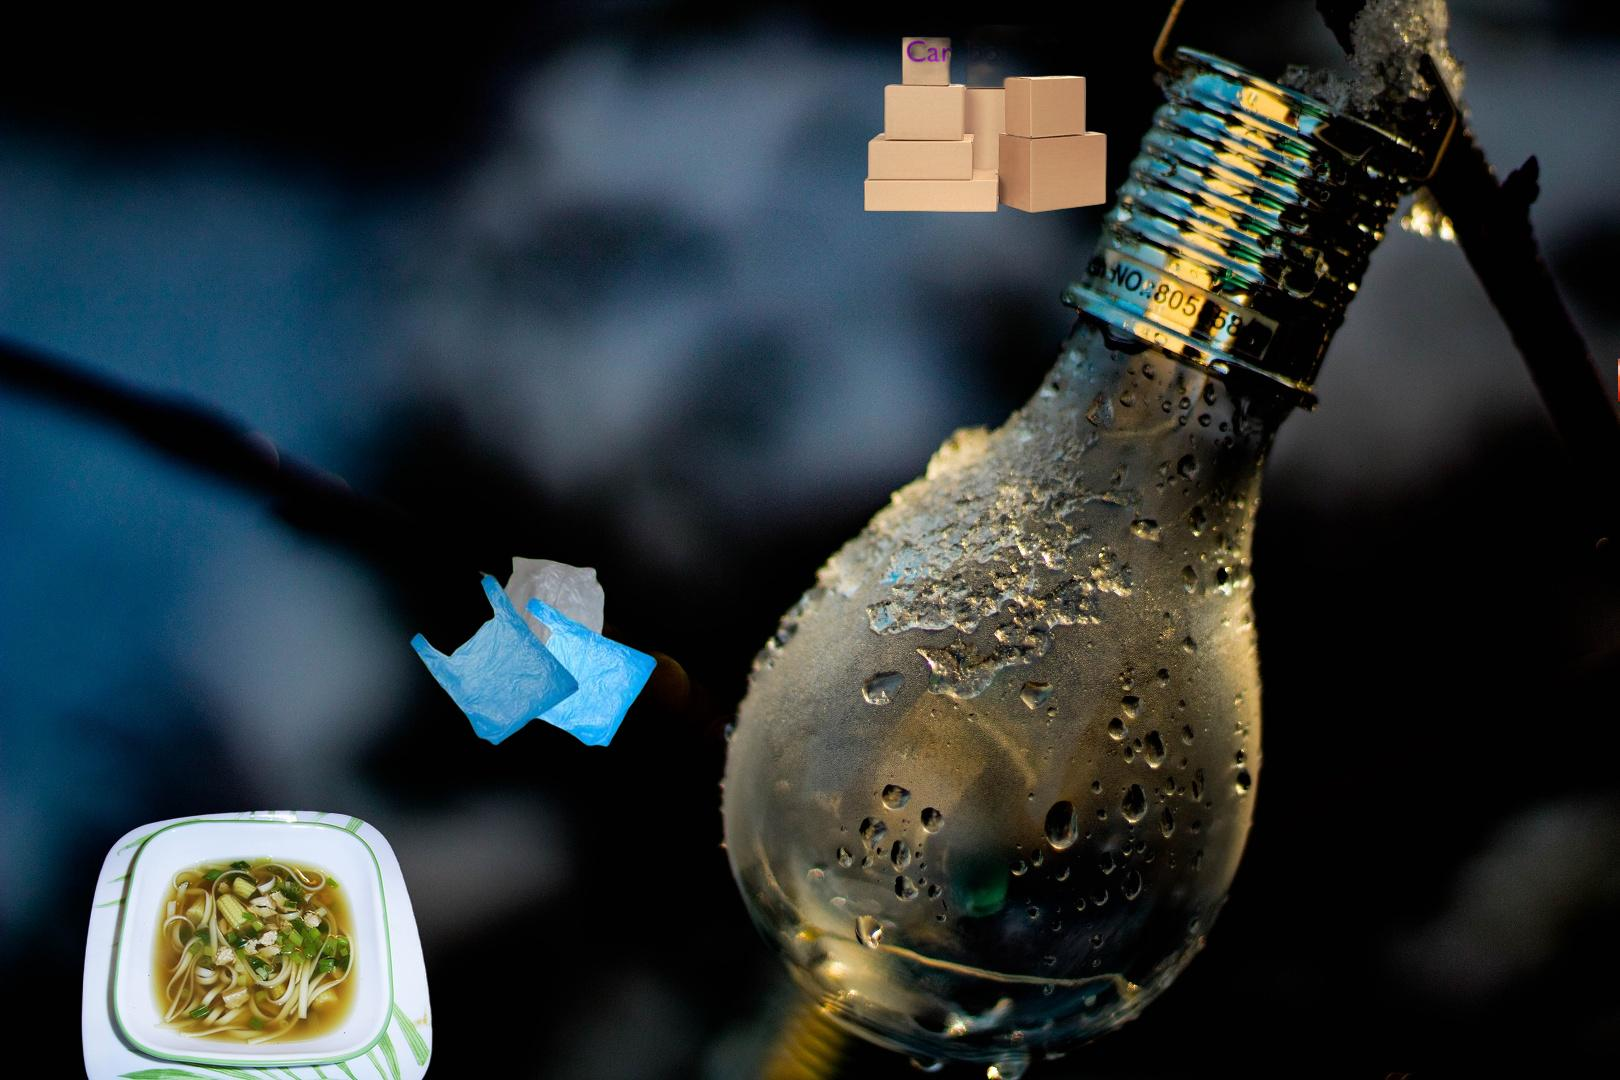biological: (77, 810, 436, 1080), (1618, 278, 1620, 538)
paper: (1603, 1072, 1620, 1080)
plastic-bag: (409, 553, 661, 750)
trashbox-cardboard: (862, 23, 1110, 216)
